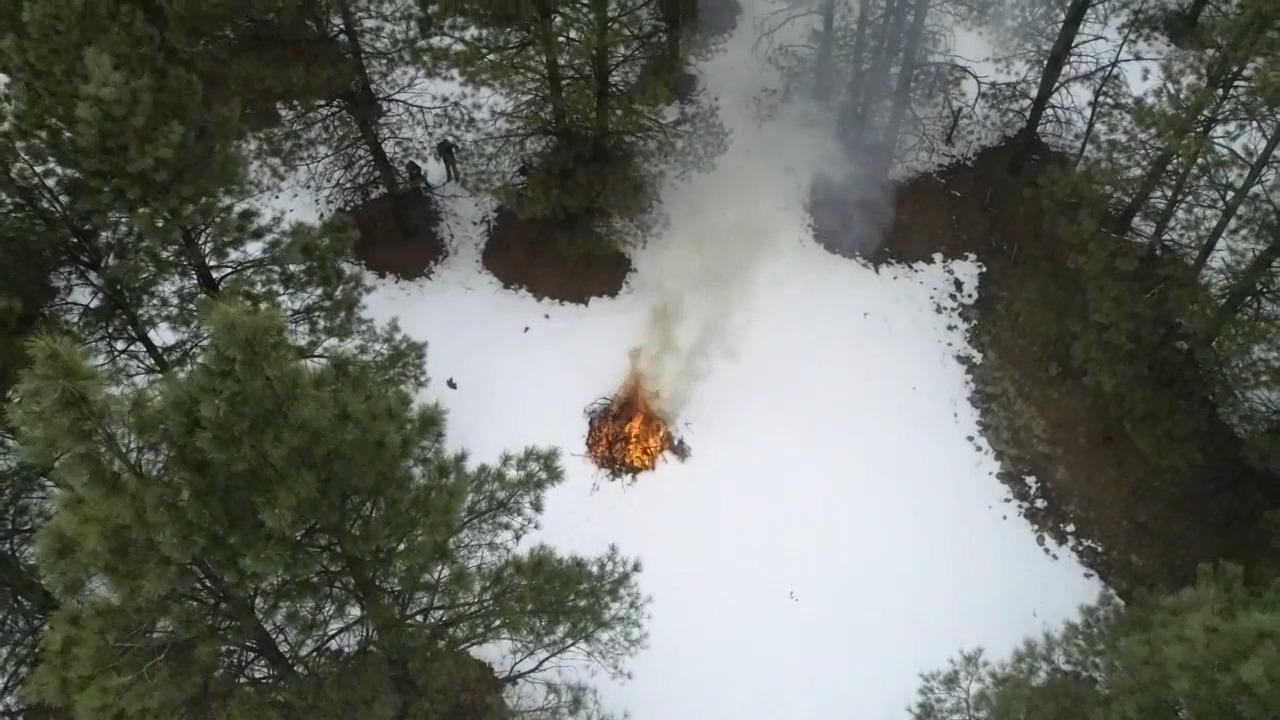fire: (575, 350, 684, 475)
